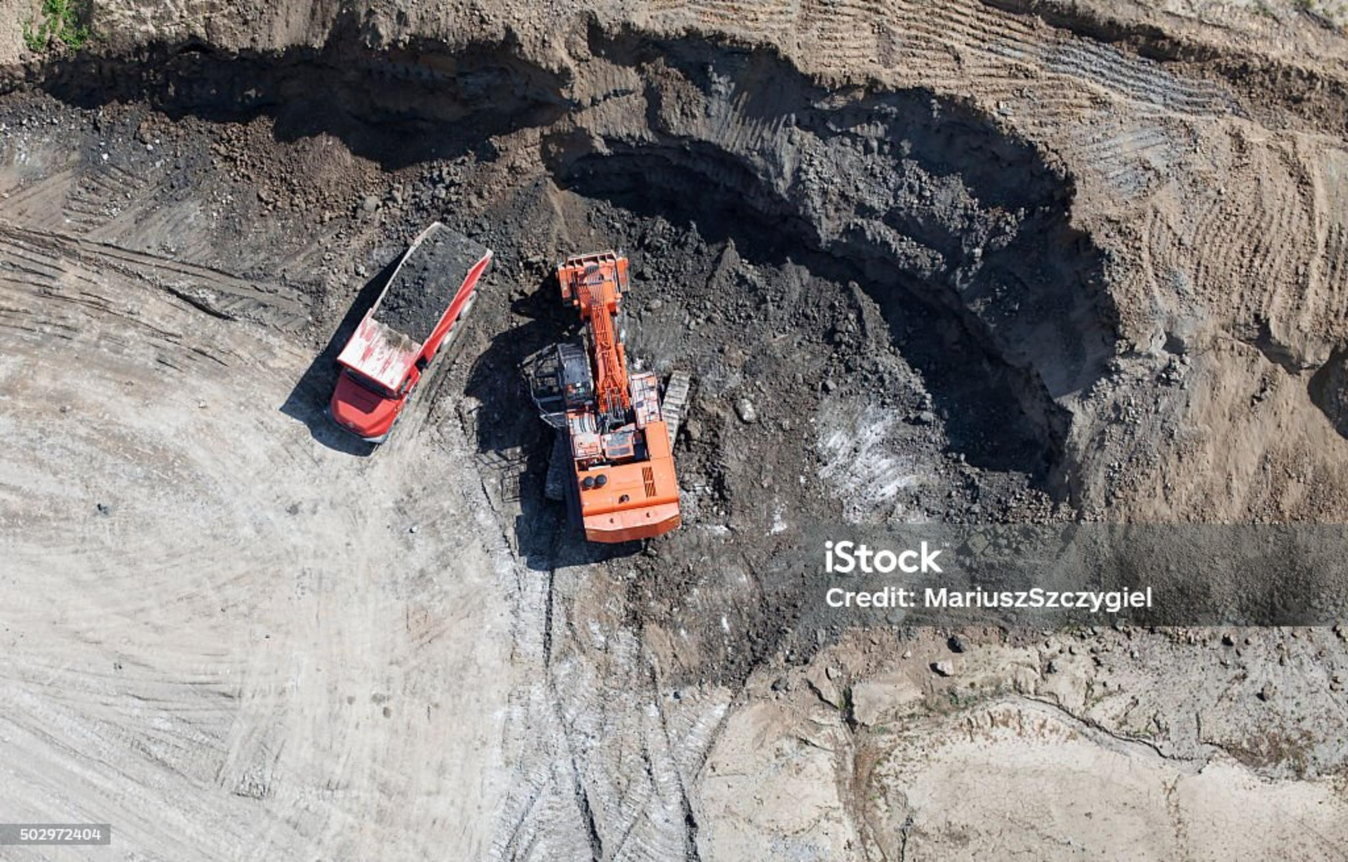excavator: (538, 254, 698, 545)
truck: (333, 199, 483, 434)
